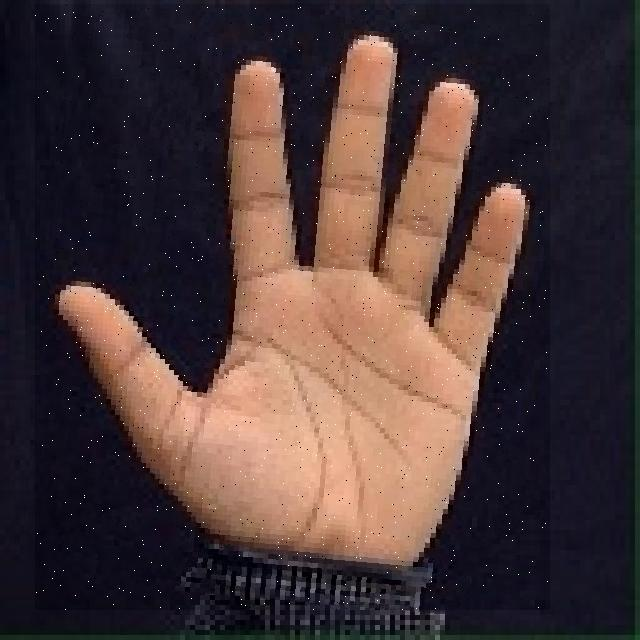Yes: (35, 4, 550, 610)
